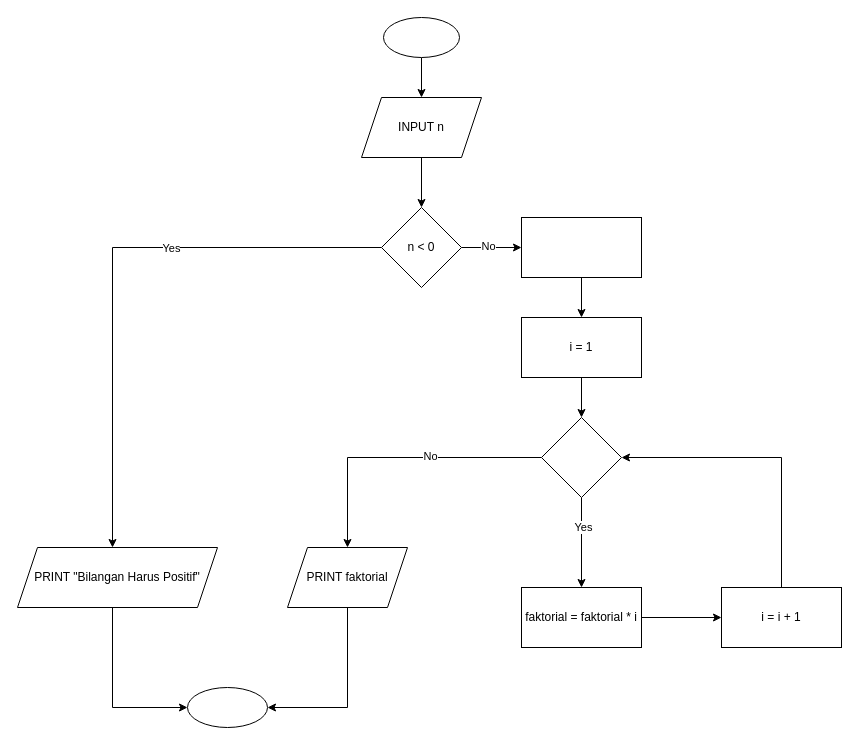
This 859x745 diagram has some shape labels left out. Here are the shapes that lost their labels. From the top down, the centre of each, then its label:
point 421,37: Start
point 581,247: faktorial = 1
point 581,457: i <= n
point 227,707: end
